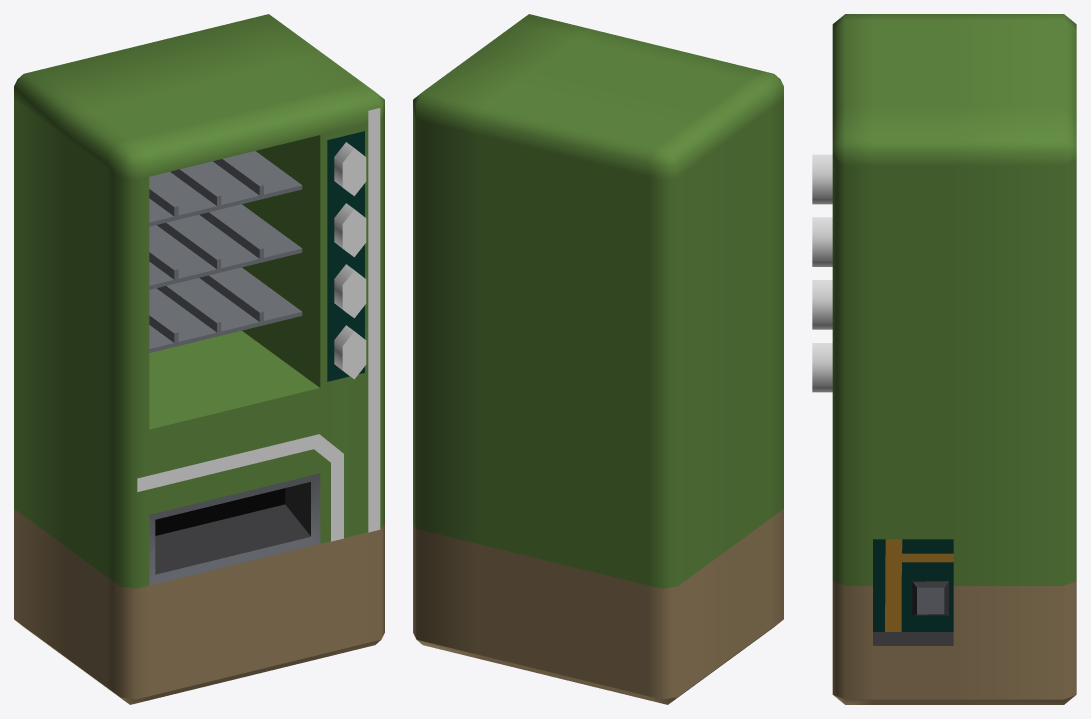
The model's file is MegaSeedServitor.glb.
3 views of the same model, side by side, from view 1: azimuth 30°, elevation 25°; view 2: azimuth 150°, elevation 25°; view 3: azimuth 270°, elevation 25° (orthographic). The views are drawn at different scales.
Visible parts, largest first — view 1: MegaSeedServitor; view 2: MegaSeedServitor; view 3: MegaSeedServitor.
Boxes of the visible parts, x1,y1,x2,y2 form: MegaSeedServitor: [14, 14, 384, 704]; MegaSeedServitor: [413, 14, 783, 704]; MegaSeedServitor: [812, 14, 1076, 704].
Bounding box in the file's own units: 0.9 × 1.8 × 0.7584.
Materials: 2 (1 with a texture image).
